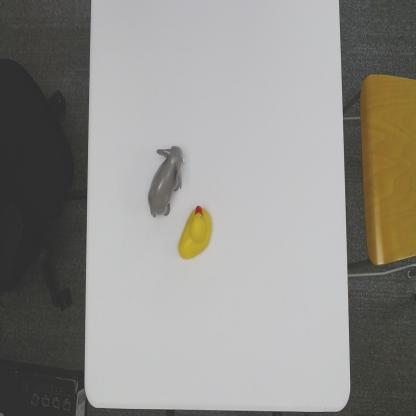Duck: (177, 202, 213, 262)
Elephant: (147, 143, 187, 219)
